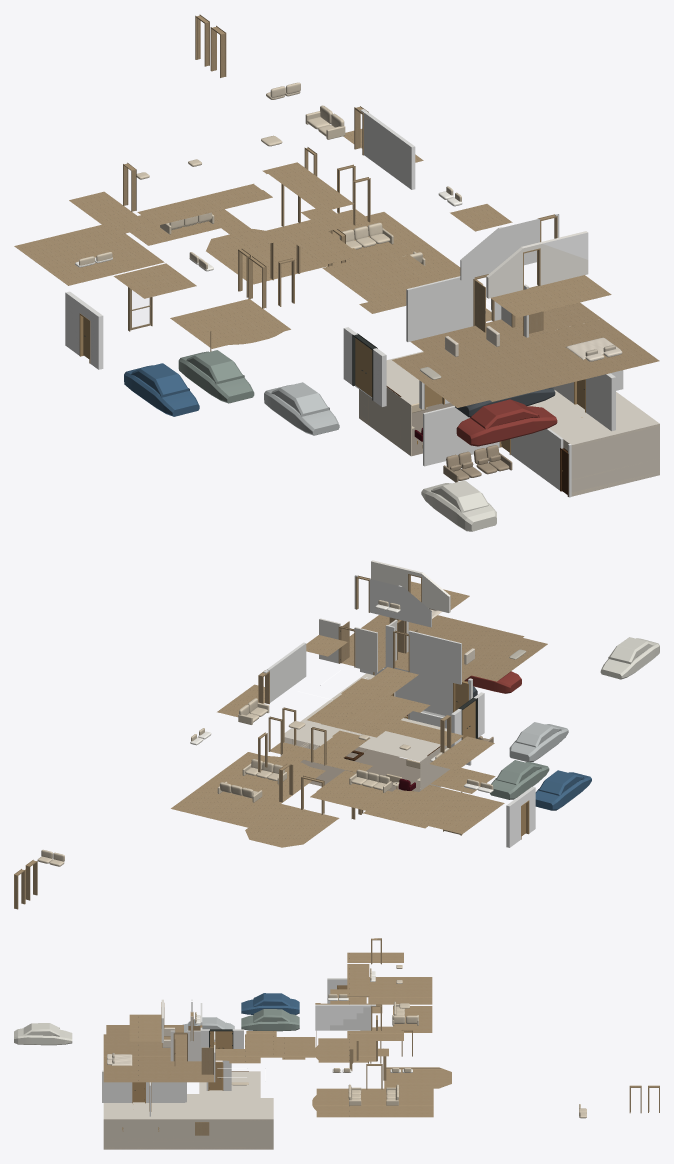
The model's file is planning-furnishings.glb.
3 views of the same model, one above another, from view 1: azimuth 30°, elevation 25°; view 2: azimuth 150°, elevation 25°; view 3: azimuth 270°, elevation 25° (orthographic). The views are drawn at different scales.
Parts seen in each view (by area): view 1: Bedroom 02 | floor 0, Formal 01 | wide oak floor, Terrace suites | west bedroom oak floor, Bar detail | panelling south back bar cream wall lining, Bar 01 | ivory ceiling lining, Proposal | Principal suite north partition pier 0, Proposal | Wing dormer south cheek, Office 01 | continuous oak floor, Landings 01 | continuous oak landing floor, Landings 01 | continuous oak landing floor.002, Proposal | Loft ensuite north wall pier 0, Loftsuite 01 | hip store oak floor (+26 smaller); view 2: Formal 01 | wide oak floor, Bedroom 02 | floor 0, Terrace suites | west bedroom oak floor, Bar 01 | ivory ceiling lining, Proposal | Principal suite north partition pier 0, Terrace suites | lounge oak floor, Landings 01 | continuous oak landing floor, Bar 01 | limestone floor finish, Proposal | Loft ensuite north wall pier 0, Proposal | Garage north store separation end pier, Proposal | Wing dormer south cheek, Proposal | Loft passage east wall end pier (+23 smaller); view 3: Bar detail | panelling east bar and games cream wall lining, Bar 01 | ivory ceiling lining, Formal 01 | wide oak floor, Bedroom 02 | floor 0, Terrace suites | west bedroom oak floor, Proposal | Loft passage east wall cladding end pier, Landings 01 | continuous oak landing floor.002, Loftsuite 01 | hip store oak floor, Landings 01 | continuous oak landing floor, Proposal | Garage east separation end pier, Terrace suites | lounge oak floor, Ensuite 01 | dressing oak floor (+17 smaller).
Boxes of the visible parts, x1,y1,x2,y2 form: Bedroom 02 | floor 0: (410, 319, 659, 401); Formal 01 | wide oak floor: (206, 212, 482, 284); Terrace suites | west bedroom oak floor: (14, 224, 164, 285); Bar detail | panelling south back bar cream wall lining: (571, 424, 659, 495); Bar 01 | ivory ceiling lining: (386, 351, 659, 444); Proposal | Principal suite north partition pier 0: (406, 276, 474, 341); Proposal | Wing dormer south cheek: (486, 231, 588, 298); Office 01 | continuous oak floor: (170, 299, 290, 348); Landings 01 | continuous oak landing floor: (236, 208, 371, 264); Landings 01 | continuous oak landing floor.002: (322, 250, 435, 301); Proposal | Loft ensuite north wall pier 0: (460, 218, 540, 280); Loftsuite 01 | hip store oak floor: (491, 275, 611, 317); Formal 01 | wide oak floor: (171, 752, 339, 847); Bedroom 02 | floor 0: (349, 615, 524, 681); Terrace suites | west bedroom oak floor: (387, 784, 504, 834); Bar 01 | ivory ceiling lining: (284, 673, 446, 761); Proposal | Principal suite north partition pier 0: (408, 630, 461, 684); Terrace suites | lounge oak floor: (310, 770, 408, 814); Landings 01 | continuous oak landing floor: (270, 733, 372, 772); Bar 01 | limestone floor finish: (300, 717, 420, 791); Proposal | Loft ensuite north wall pier 0: (369, 579, 431, 627); Proposal | Garage north store separation end pier: (375, 666, 452, 715); Proposal | Wing dormer south cheek: (371, 560, 450, 612); Proposal | Loft passage east wall end pier: (264, 642, 306, 702); Bar detail | panelling east bar and games cream wall lining: (103, 1119, 273, 1149); Bar 01 | ivory ceiling lining: (103, 1071, 273, 1119); Formal 01 | wide oak floor: (312, 1067, 451, 1117); Bedroom 02 | floor 0: (103, 1034, 186, 1082); Terrace suites | west bedroom oak floor: (368, 977, 432, 1004); Proposal | Loft passage east wall cladding end pier: (315, 1005, 375, 1030); Landings 01 | continuous oak landing floor.002: (260, 1037, 315, 1057); Loftsuite 01 | hip store oak floor: (129, 1014, 161, 1041); Landings 01 | continuous oak landing floor: (318, 1027, 388, 1061); Proposal | Garage east separation end pier: (146, 1082, 185, 1102); Terrace suites | lounge oak floor: (378, 1006, 432, 1032); Ensuite 01 | dressing oak floor: (171, 1061, 213, 1082).
Size of the model in its own units: 21.47 by 10.44 by 48.7.
94 materials, 29 textured.
